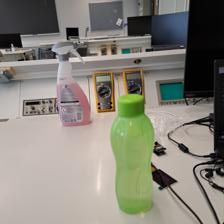bottle: (109, 90, 156, 215)
